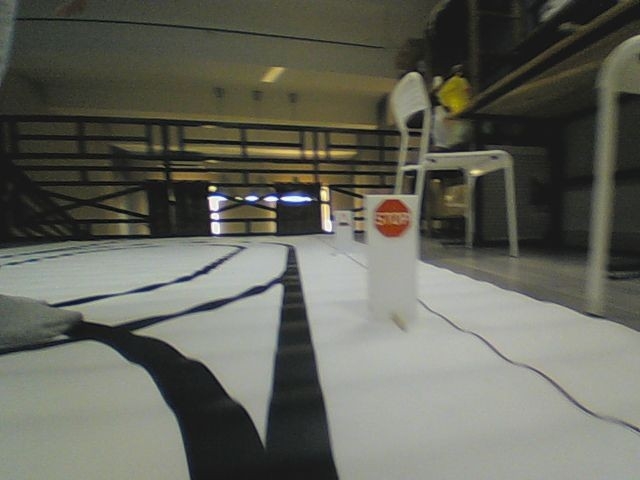Stop: (372, 197, 412, 238)
